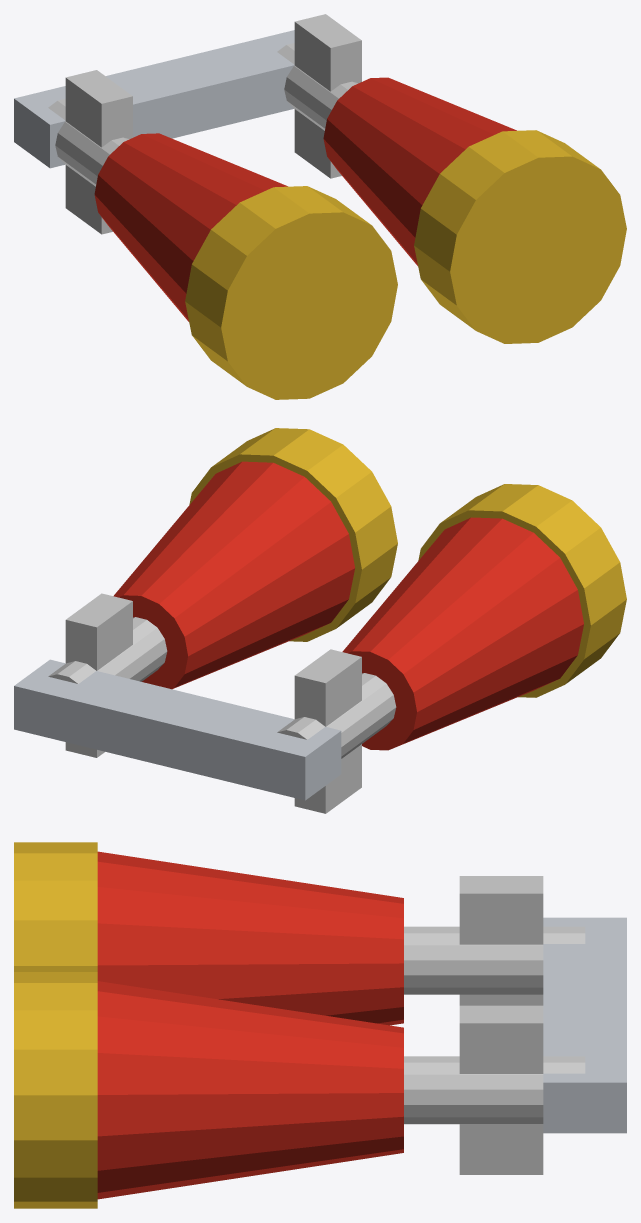
The model's file is air_raid_horn_component.obj.
The picture shows the model from 3 angles, top to bottom: view 1: azimuth 30°, elevation 25°; view 2: azimuth 150°, elevation 25°; view 3: azimuth 270°, elevation 25°; orthographic projection. The views are drawn at different scales.
Visible parts, largest first — view 1: air_raid_horn_component; view 2: air_raid_horn_component; view 3: air_raid_horn_component.
Boxes of the visible parts, bbox=[...] form: air_raid_horn_component: bbox=[14, 14, 626, 399]; air_raid_horn_component: bbox=[14, 428, 626, 813]; air_raid_horn_component: bbox=[14, 842, 626, 1208].
Size of the model in its own units: 0.78 by 0.34 by 0.88.
